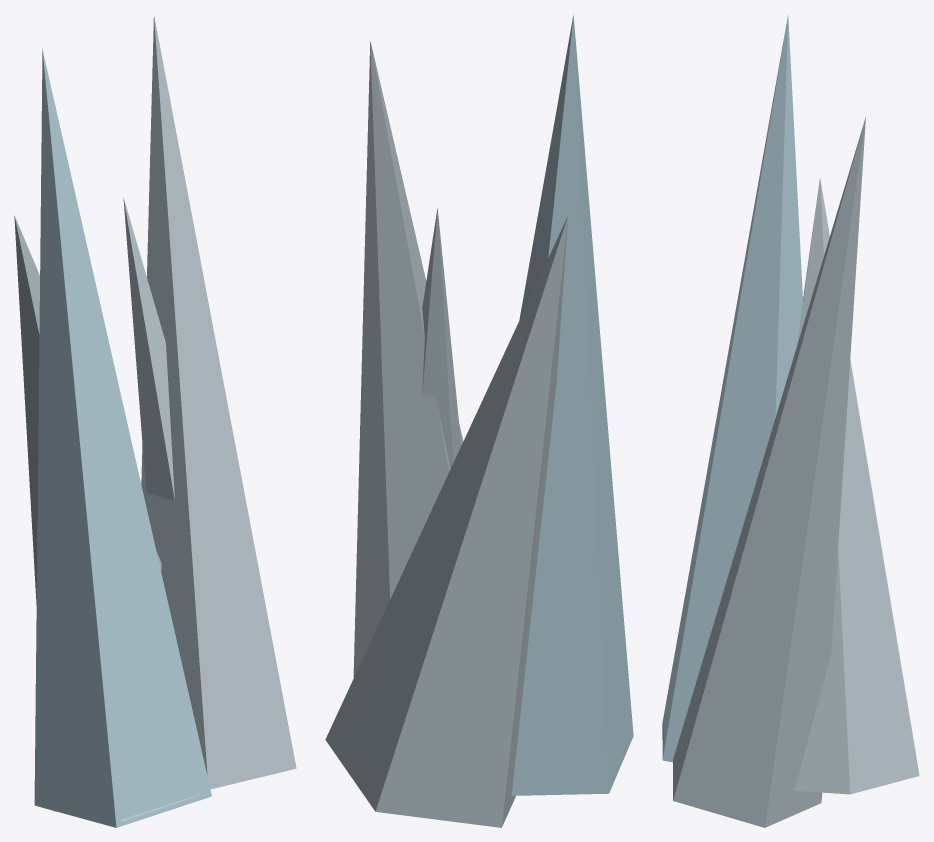
Rendered from v_ice_shard.glb.
3 views of the same model, side by side, from view 1: azimuth 30°, elevation 25°; view 2: azimuth 150°, elevation 25°; view 3: azimuth 270°, elevation 25° (orthographic). The views are drawn at different scales.
Visible parts, largest first — view 1: Ice; view 2: Ice; view 3: Ice.
Boxes of the visible parts, x1,y1,x2,y2 form: Ice: [14, 15, 296, 827]; Ice: [325, 14, 633, 827]; Ice: [662, 15, 919, 827].
Size of what is drawn, in the model's own units: 1.07 by 3.18 by 1.02.
